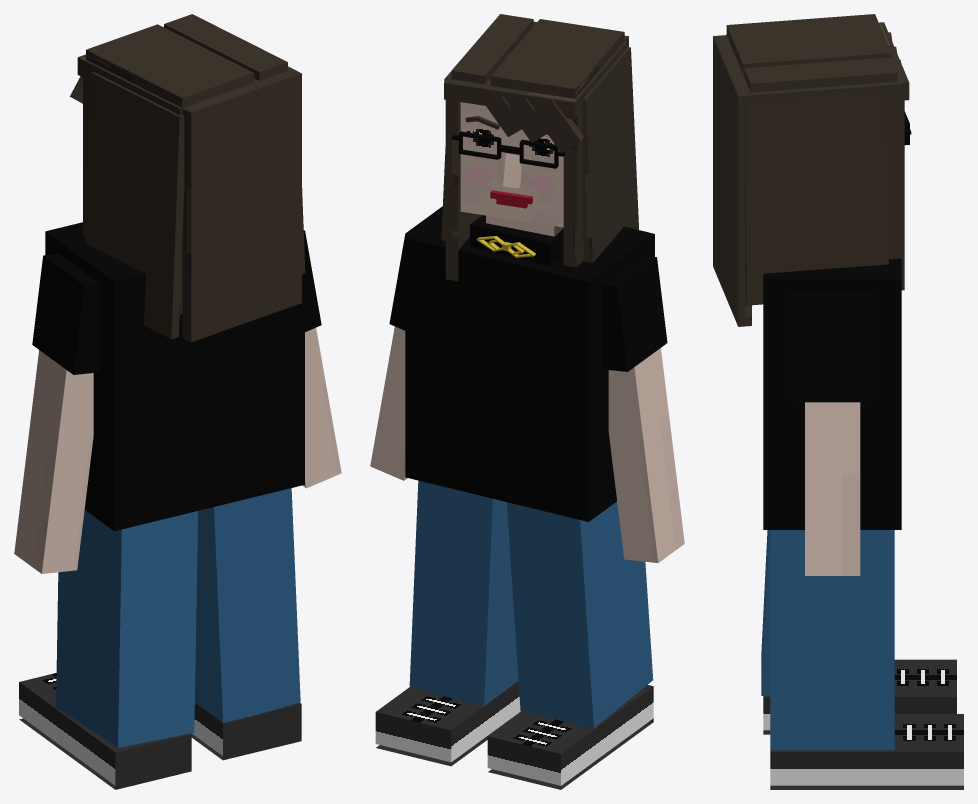
The picture shows the model from 3 angles, left to right: view 1: azimuth 30°, elevation 25°; view 2: azimuth 150°, elevation 25°; view 3: azimuth 270°, elevation 25°; orthographic projection. The views are drawn at different scales.
Visible parts, largest first — view 1: cube (×5), legs (×2), body, arms (×2), shoes (×2), t-shirt arm (×2); view 2: body (×2), legs (×2), cube (×4), shoes (×2), arms (×2), hair (×5), face, t-shirt arm (×2), neck, nose; view 3: hair (×3), legs (×2), cube (×4), body, shoes (×2), arms, t-shirt arm.
Boxes of the visible parts, x1,y1,x2,y2 form: cube (×5): [83, 14, 301, 342]; legs (×2): [56, 488, 300, 747]; body: [45, 222, 304, 531]; arms (×2): [14, 328, 341, 573]; shoes (×2): [19, 673, 301, 789]; t-shirt arm (×2): [32, 230, 321, 374]; body (×2): [405, 210, 654, 521]; legs (×2): [409, 480, 653, 728]; cube (×4): [451, 14, 638, 267]; shoes (×2): [375, 681, 653, 789]; arms (×2): [370, 326, 684, 562]; hair (×5): [444, 79, 584, 281]; face: [460, 102, 563, 227]; t-shirt arm (×2): [389, 206, 667, 371]; neck: [486, 215, 563, 236]; nose: [503, 153, 521, 188]; hair (×3): [745, 22, 909, 305]; legs (×2): [761, 530, 894, 750]; cube (×4): [713, 14, 901, 326]; body: [763, 258, 901, 529]; shoes (×2): [763, 659, 963, 789]; arms: [805, 402, 860, 575]; t-shirt arm: [791, 291, 873, 402].
Size of the model in its own units: 1.57 by 3.47 by 1.13.
Materials: 8 (8 with a texture image).
